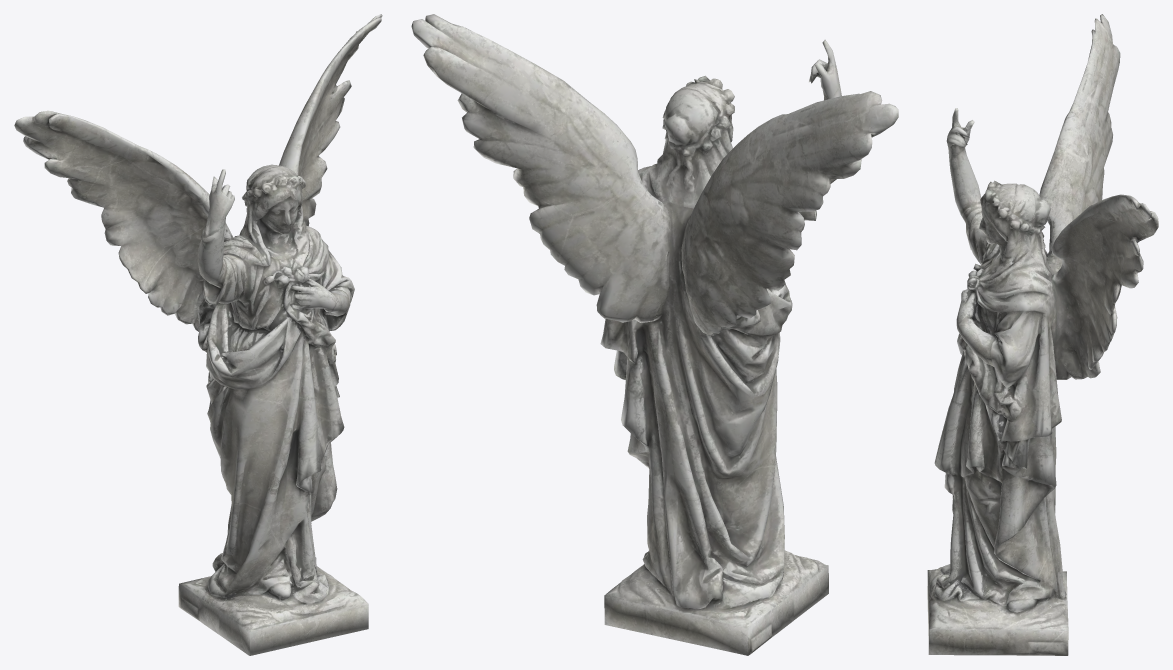
File: angel-opt.glb
3 renders of one model, left to right at view 1: azimuth 30°, elevation 25°; view 2: azimuth 150°, elevation 25°; view 3: azimuth 270°, elevation 25°, orthographic. The views are drawn at different scales.
Visible parts, largest first — view 1: SilverAngel_LP_Unwrap#1_0; view 2: SilverAngel_LP_Unwrap#1_0; view 3: SilverAngel_LP_Unwrap#1_0.
Part boxes in pixels (box(x1,y1,x2,y2)): SilverAngel_LP_Unwrap#1_0: box(14, 14, 382, 655); SilverAngel_LP_Unwrap#1_0: box(411, 14, 898, 655); SilverAngel_LP_Unwrap#1_0: box(927, 14, 1158, 655).
Bounding box in the file's own units: 6.77 × 8.61 × 3.48.
Materials: 1 (1 with a texture image).
